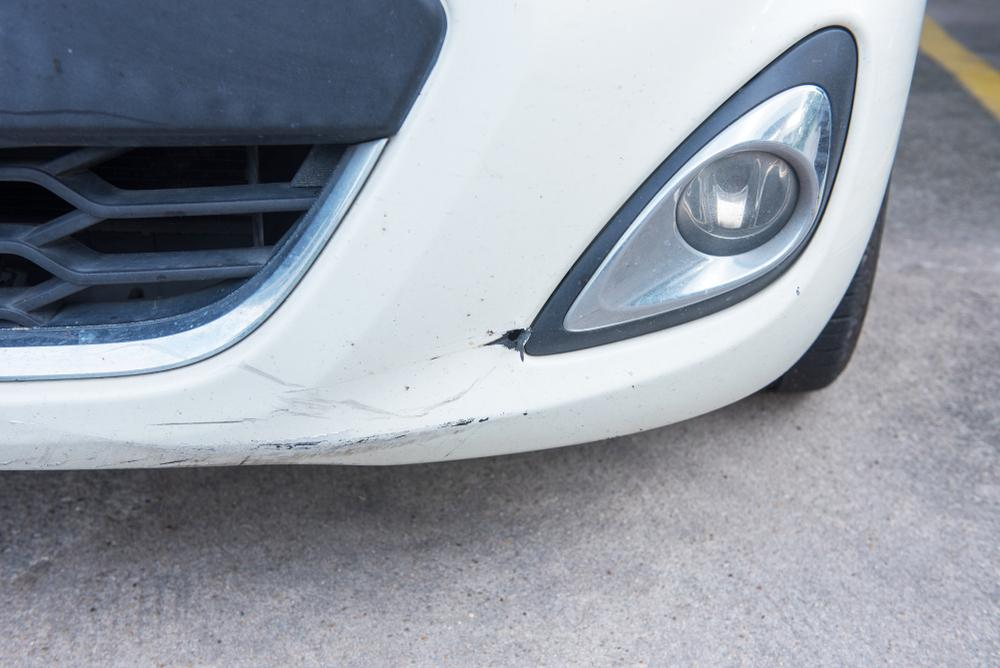crack: (499, 327, 534, 347)
scratch: (126, 418, 479, 461)
